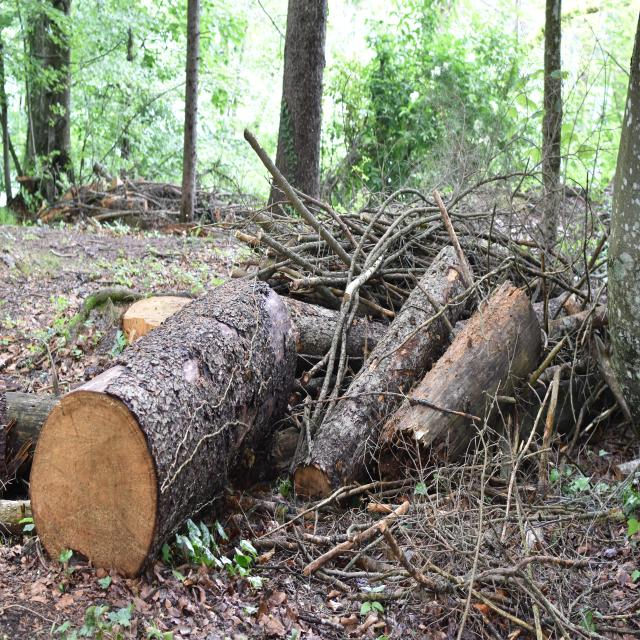restos de madeira: (32, 287, 316, 572), (301, 250, 474, 508), (383, 296, 554, 495), (297, 242, 443, 474), (244, 125, 360, 277), (334, 196, 423, 306), (0, 385, 65, 532), (504, 375, 555, 543), (302, 501, 412, 576), (454, 434, 494, 640), (445, 126, 543, 200), (380, 517, 478, 589), (398, 246, 456, 341), (502, 228, 606, 279), (425, 108, 484, 195), (590, 337, 638, 441), (508, 573, 586, 637), (255, 216, 384, 253), (278, 276, 379, 318), (436, 189, 474, 290), (467, 587, 545, 635), (501, 501, 632, 529), (451, 263, 510, 317), (123, 295, 192, 339), (545, 611, 634, 640), (537, 265, 595, 307), (544, 308, 608, 343), (383, 310, 438, 350), (576, 174, 593, 303), (68, 206, 163, 227), (40, 189, 100, 222), (470, 239, 528, 272), (235, 255, 299, 284), (372, 187, 429, 216), (200, 189, 250, 221), (135, 182, 182, 214), (4, 436, 34, 486), (90, 163, 127, 197), (117, 188, 170, 211), (538, 183, 593, 203), (486, 200, 496, 287), (444, 208, 504, 222), (235, 230, 262, 248), (230, 265, 257, 279), (5, 417, 17, 437)
